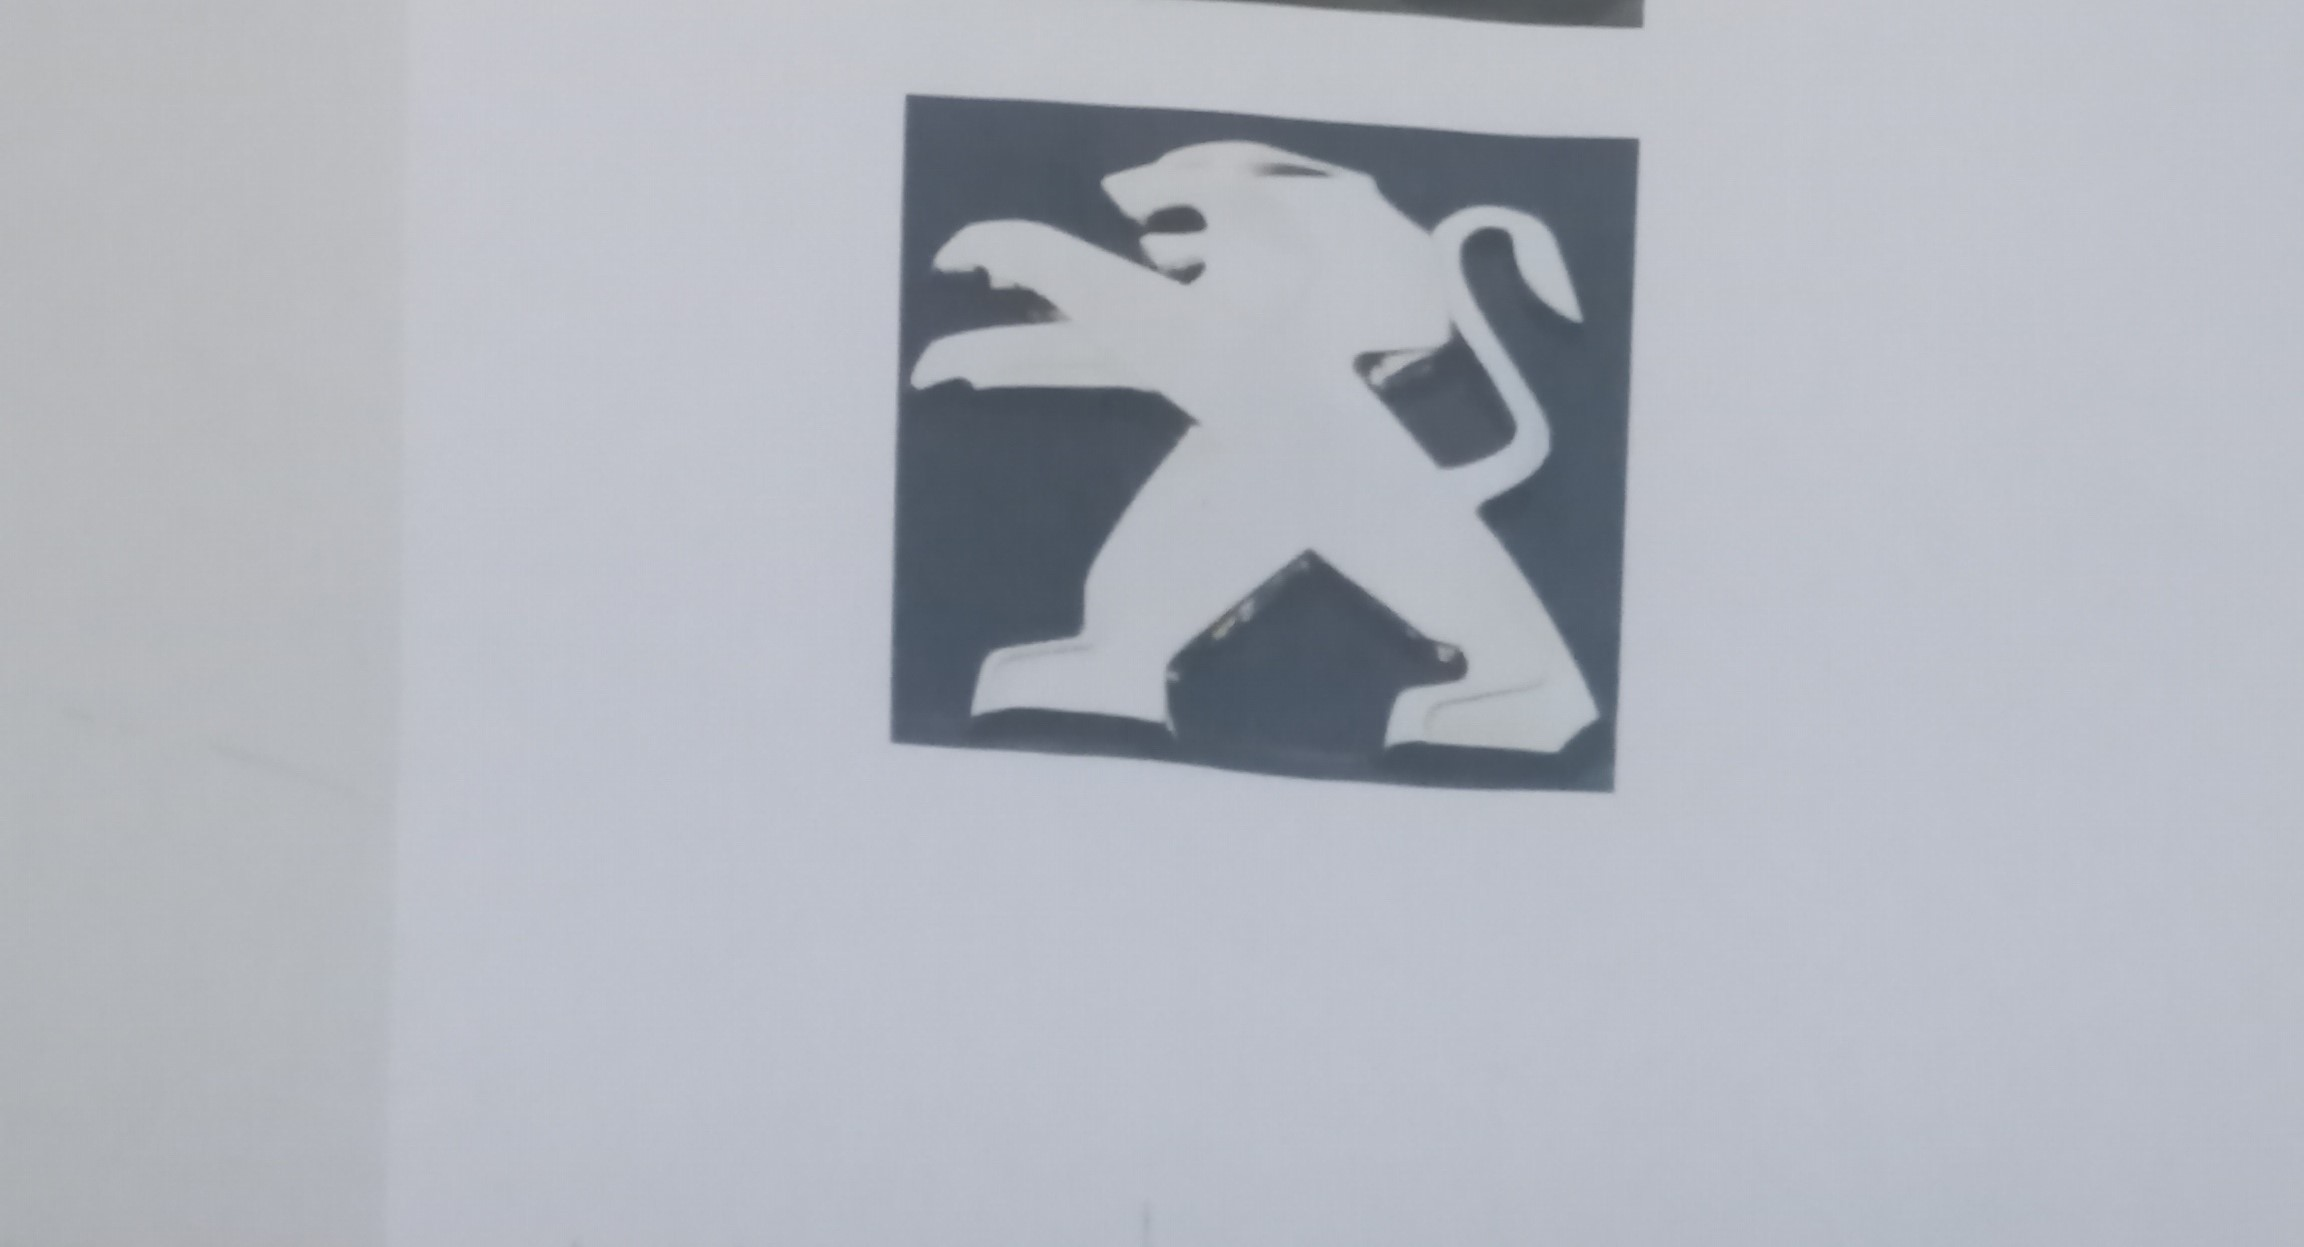Peugeot: (893, 114, 1616, 769)
